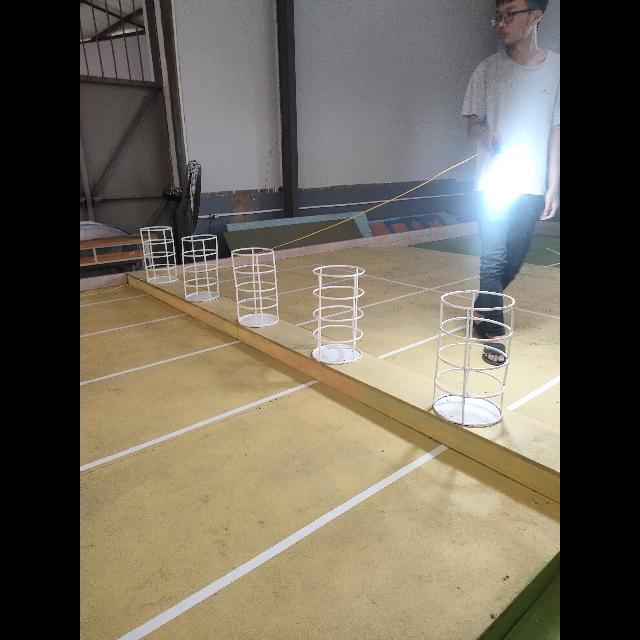S: (432, 289, 516, 429), (310, 264, 366, 366), (232, 245, 280, 328), (181, 232, 221, 302), (140, 226, 178, 284)
